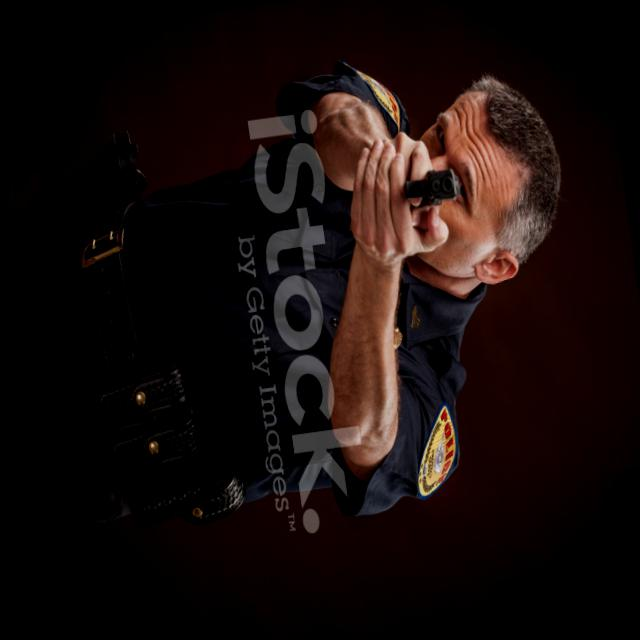handgun: (395, 164, 463, 207)
